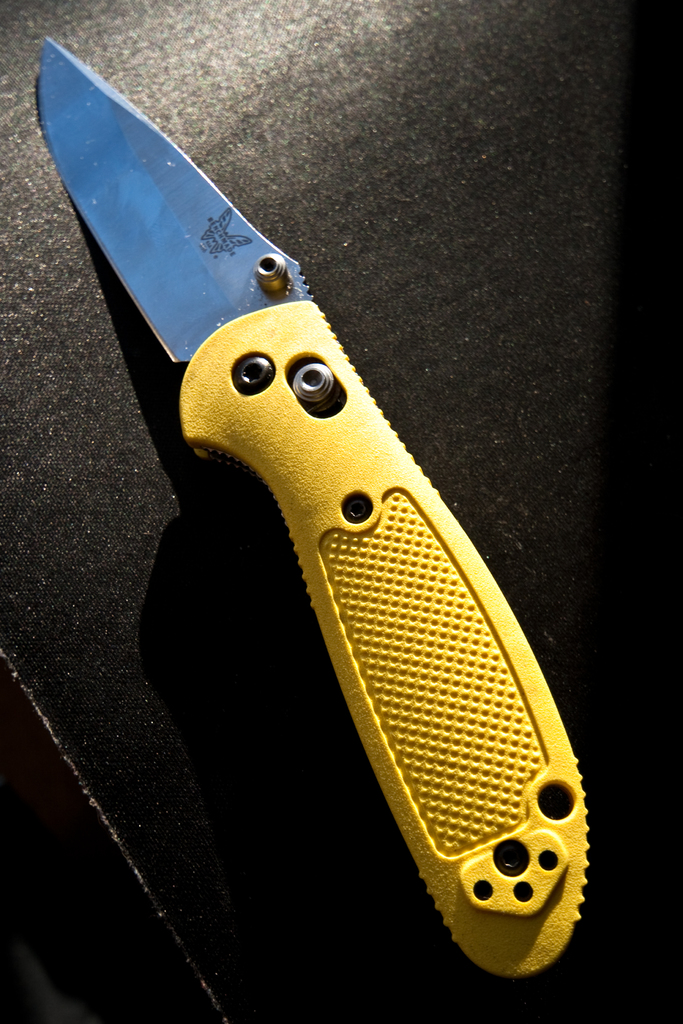knife: (37, 37, 588, 975)
